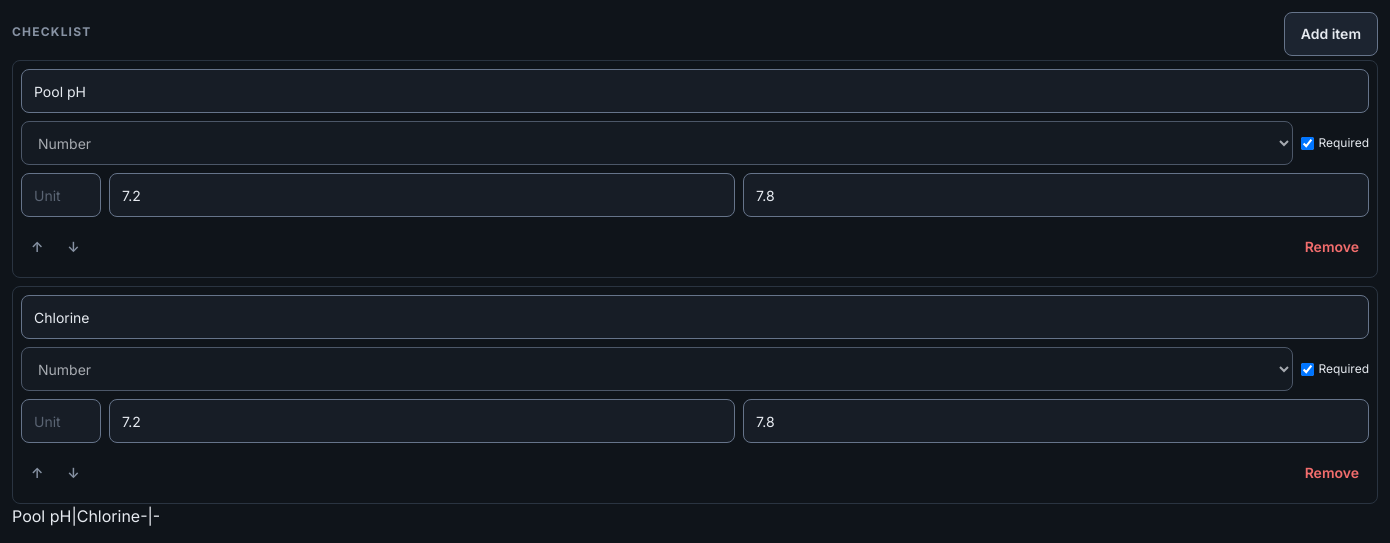
Scenario: ItemListEditor › locks the type of a saved item, and reorders and removes
expect the dropdown named "Type for item 1" is disabled: met, box top-left (21, 121), bottom-right (1293, 165)
Click the button named "Move item 2 up" at (37, 473), box top-left (21, 451), bottom-right (53, 495)
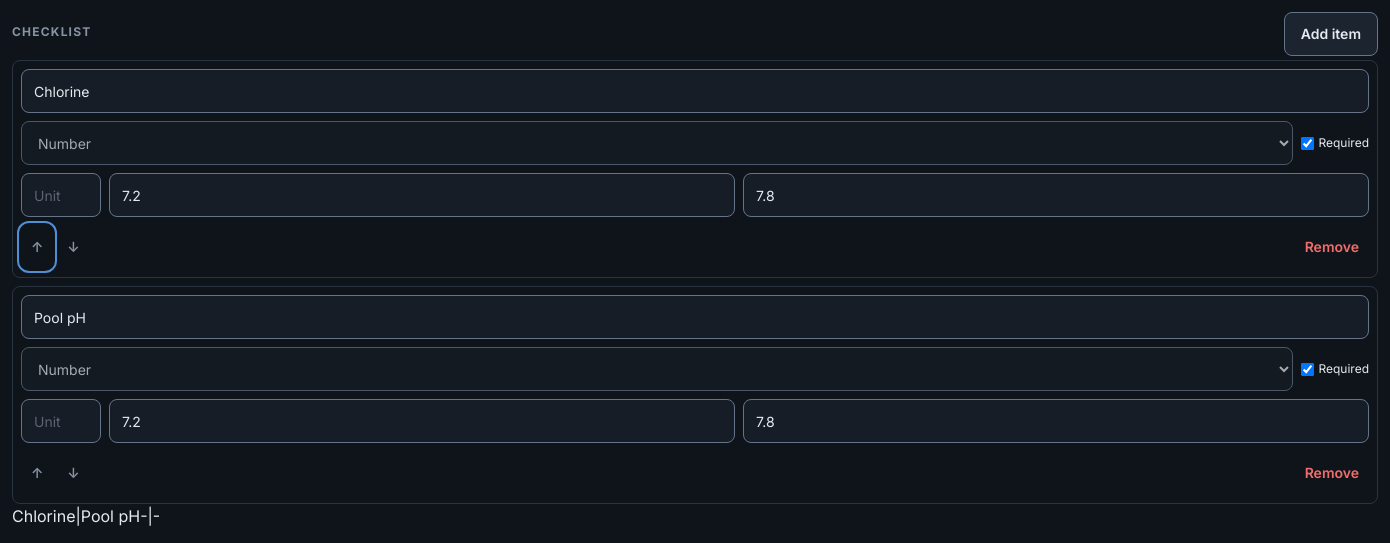
expect the text with test id "labels" reads "Chlorine|Pool pH": met, box top-left (12, 506), bottom-right (140, 526)
Click the button with aria-label "Remove item 1" at (1332, 247), box top-left (1295, 225), bottom-right (1369, 269)
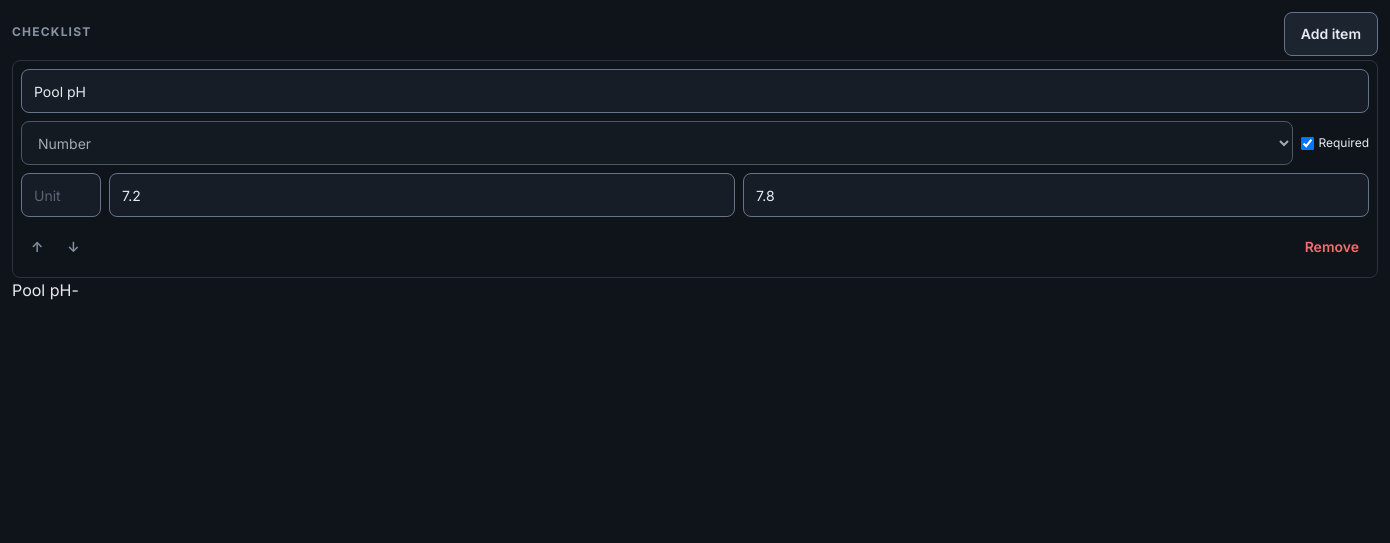
expect the text with test id "labels" reads "Pool pH": met, box top-left (12, 280), bottom-right (71, 300)
